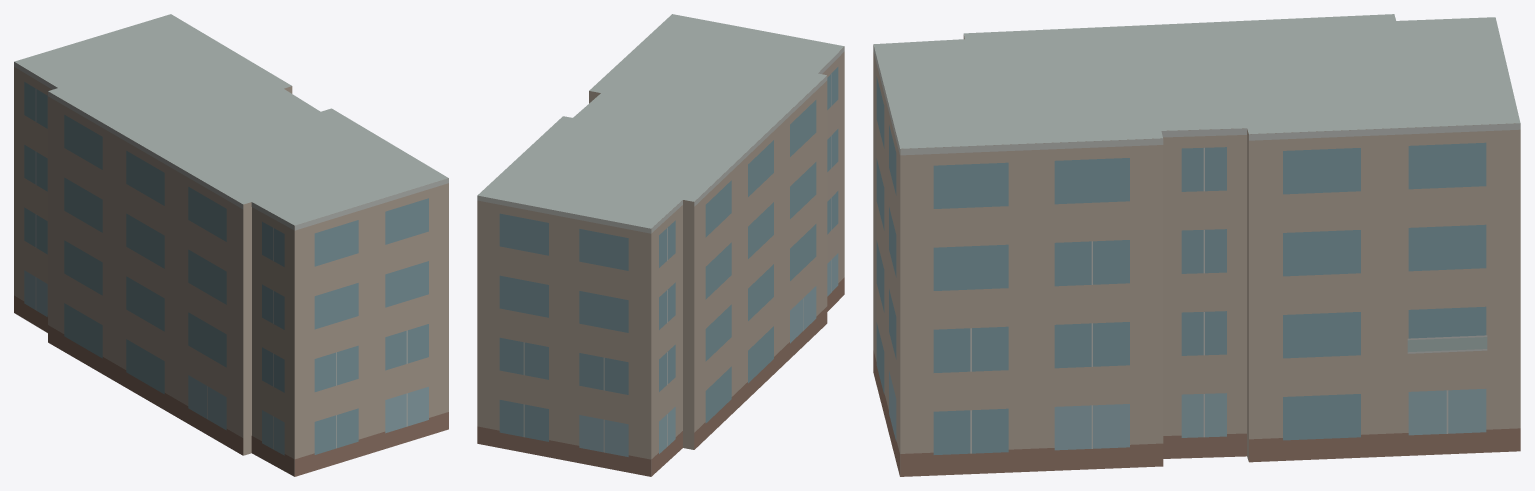
The model's file is survey-upis-32662157.glb.
3 renders of one model, left to right at view 1: azimuth 30°, elevation 25°; view 2: azimuth 150°, elevation 25°; view 3: azimuth 270°, elevation 25°, orthographic. The views are drawn at different scales.
Visible parts, largest first — view 1: survey-upis-32662157.tmp; view 2: survey-upis-32662157.tmp; view 3: survey-upis-32662157.tmp.
Part boxes in pixels (box(x1,y1,x2,y2)): survey-upis-32662157.tmp: box(14, 14, 448, 476); survey-upis-32662157.tmp: box(477, 14, 844, 476); survey-upis-32662157.tmp: box(873, 14, 1520, 476).
Size of the model in its own units: 10.76 by 12.2 by 21.82.
